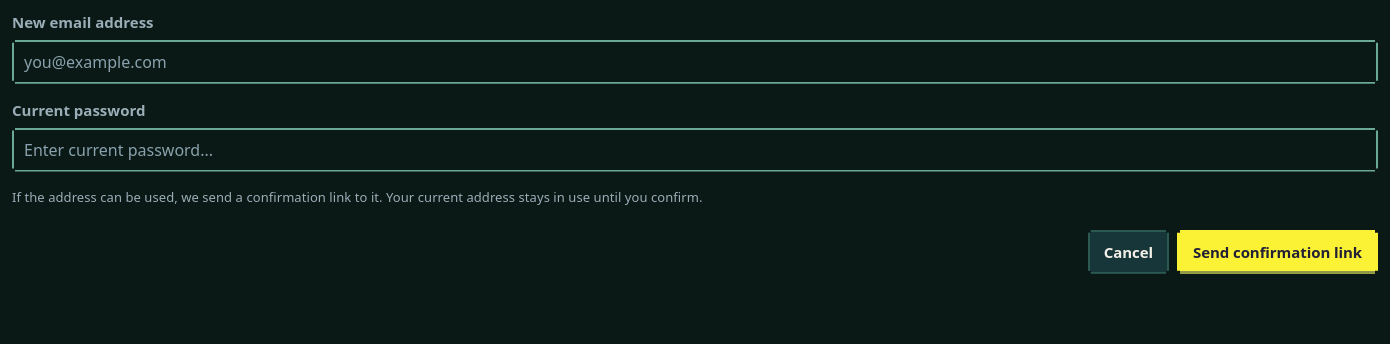
ChangeEmailForm › a server error says the change did not happen, not the browser's or Spring's text
In the field labelled "New email address": x=695, y=62 12,40 -> 1378,84, type "new@example.com"
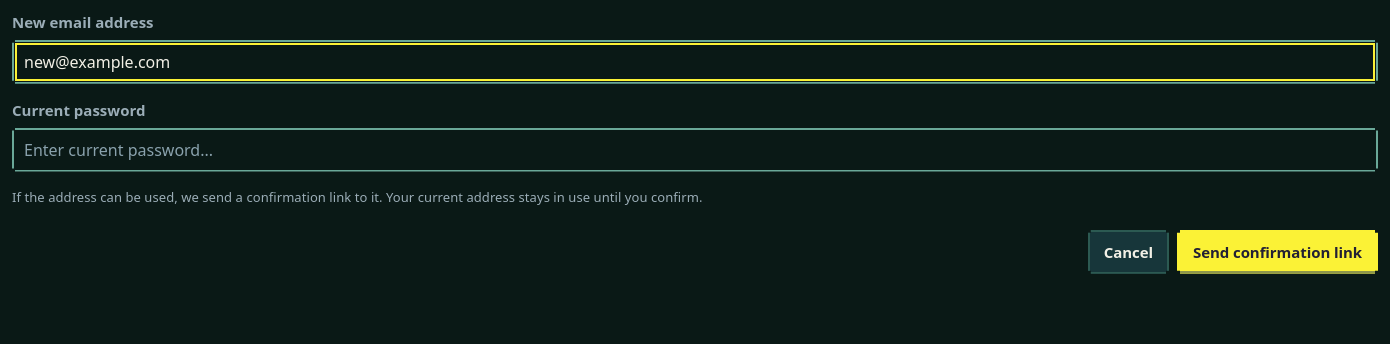
In the password field labelled "Current password": x=695, y=150 12,128 -> 1378,172, type "long-enough-1"
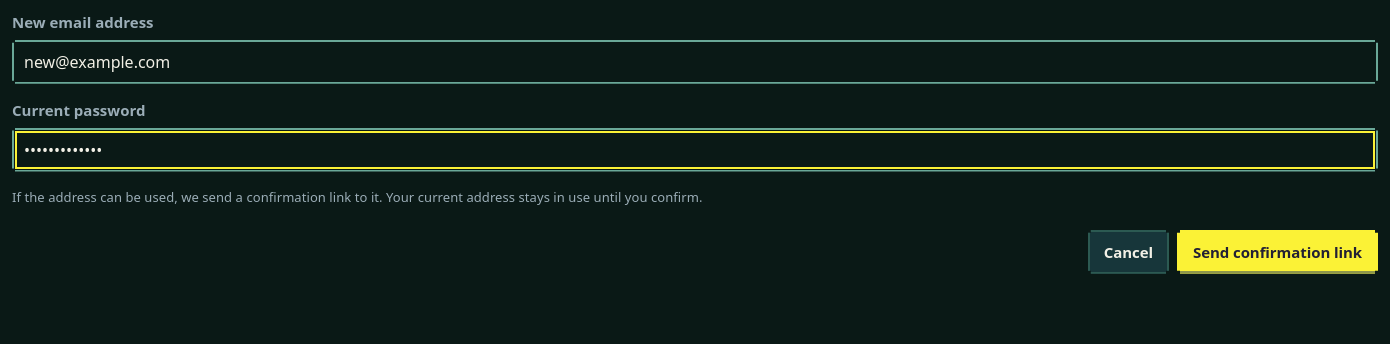
Click the button "Send confirmation link": x=1278, y=252 1177,230 -> 1378,274
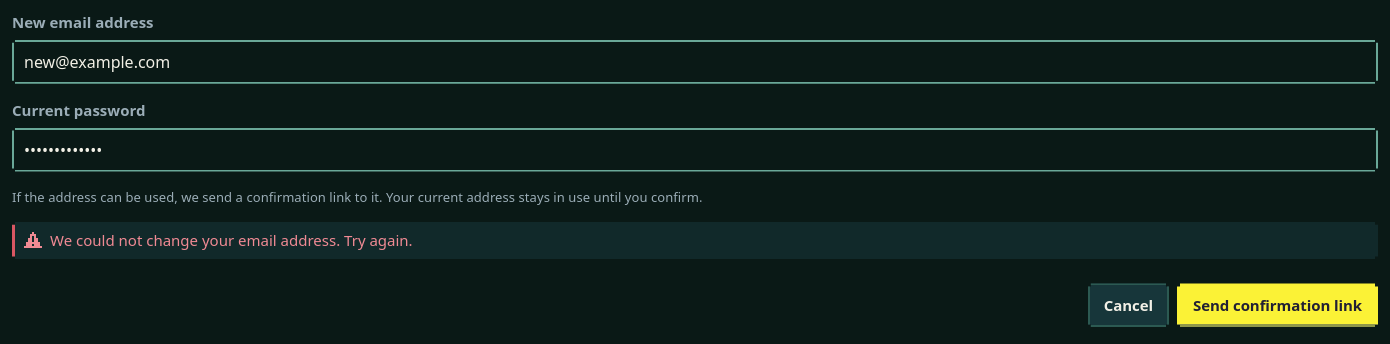
Result: the message reads "We could not change your email address. Try again." at 50,230 -> 413,250
